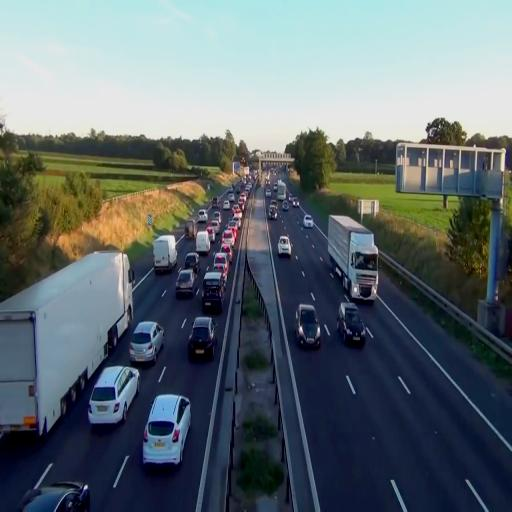vehicle: (0, 250, 134, 442), (328, 213, 380, 301), (143, 392, 191, 466), (88, 364, 140, 426), (18, 466, 90, 510), (129, 320, 165, 364), (295, 304, 322, 350), (188, 316, 216, 360), (338, 302, 366, 346), (201, 270, 223, 315), (154, 235, 178, 275), (154, 235, 177, 275), (176, 269, 196, 299), (214, 251, 229, 282), (196, 230, 210, 256), (278, 235, 292, 257), (302, 214, 314, 229)
